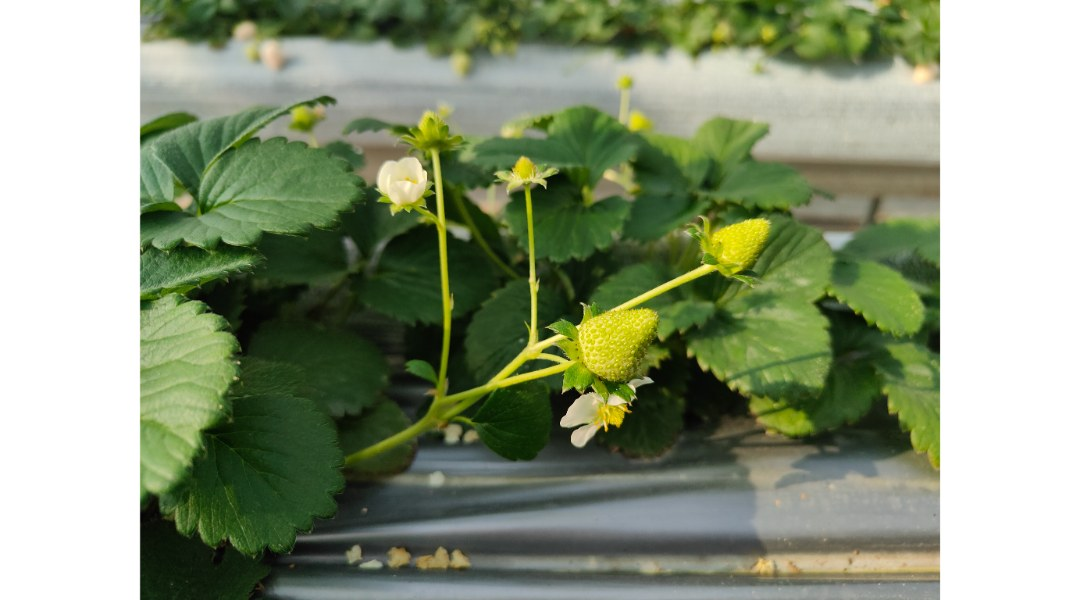berry: (558, 298, 663, 382), (683, 205, 787, 277), (496, 148, 561, 195), (405, 112, 464, 150)
flower: (556, 370, 647, 465), (367, 148, 428, 238)
strain: (591, 258, 719, 323), (428, 149, 454, 396), (510, 176, 545, 345), (338, 419, 428, 472)
